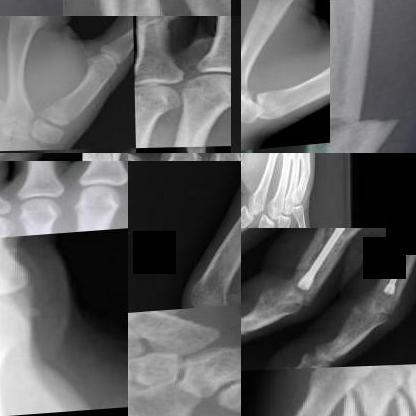fracture: (291, 228, 367, 297), (330, 94, 415, 152), (373, 228, 415, 307), (319, 380, 388, 415), (87, 0, 189, 16), (297, 159, 315, 186), (92, 153, 126, 161)
